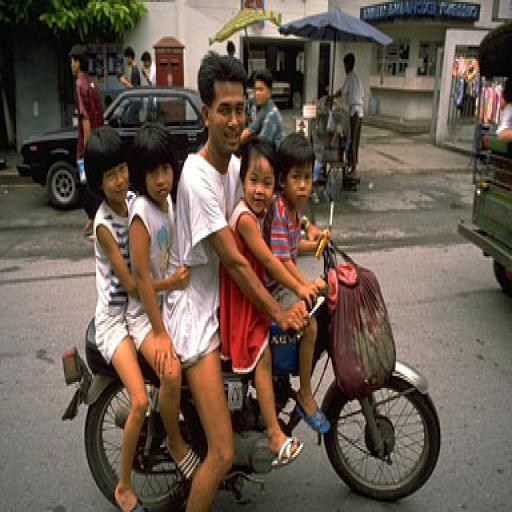overloading: (58, 209, 442, 506)
